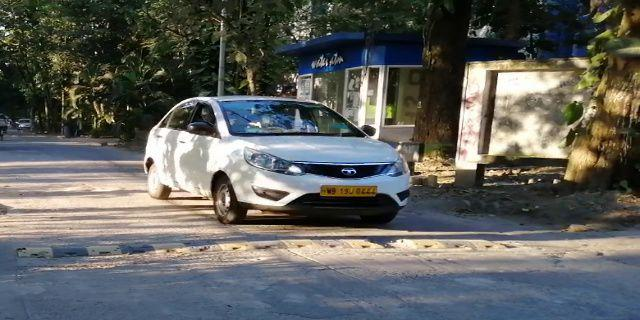Car: (139, 84, 413, 236)
